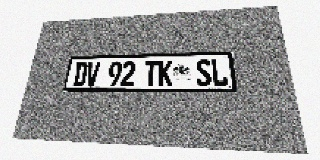2: (120, 61, 136, 86)
9: (107, 61, 122, 86)
D: (72, 62, 88, 86)
K: (158, 60, 172, 86)
L: (211, 59, 228, 86)
S: (196, 59, 212, 86)
T: (144, 60, 158, 86)
V: (85, 62, 100, 86)
